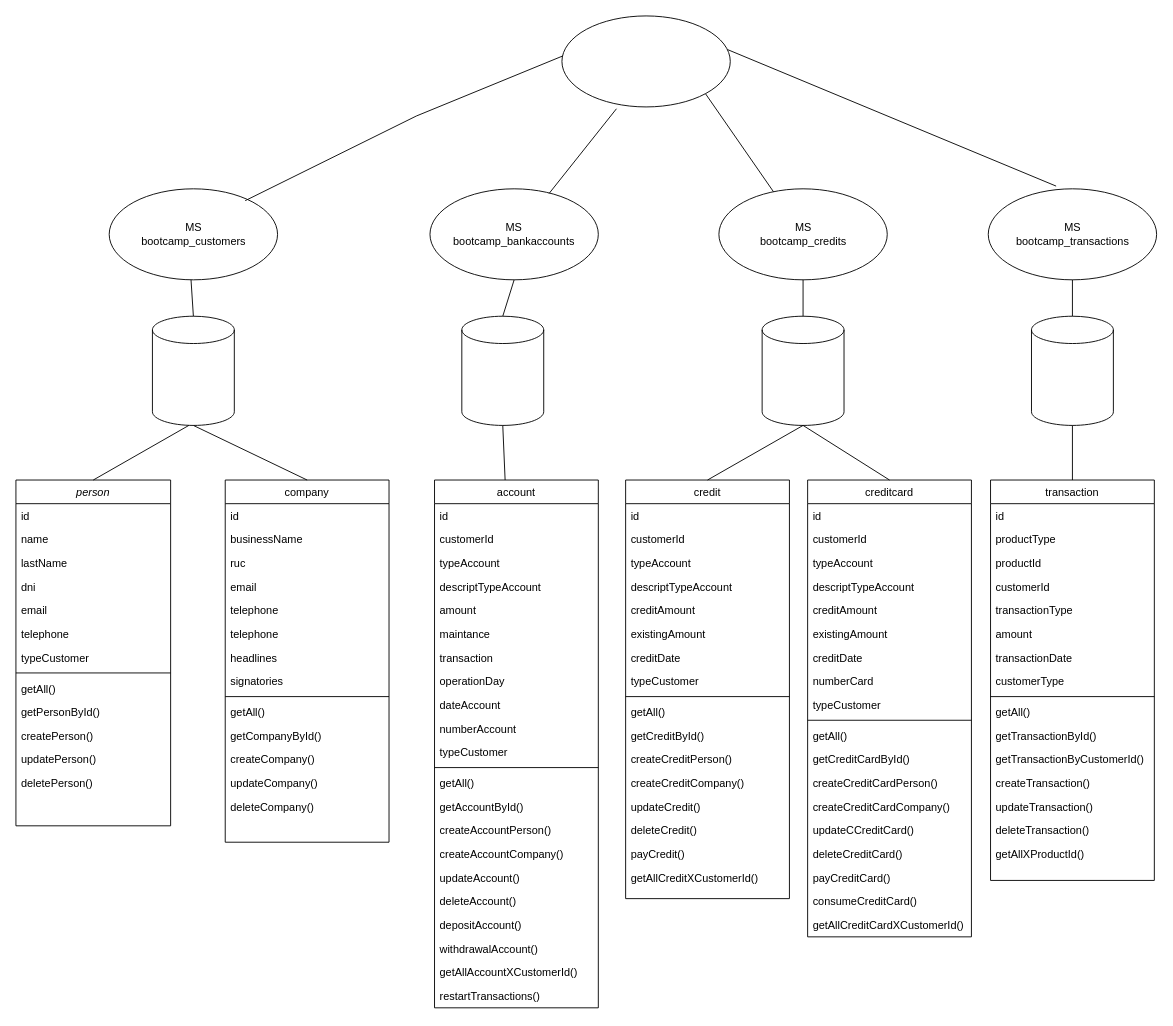
This 1173x1026 diagram has some shape labels left out. The centre of each missing label's shape, as x and y in pixels:
"DB accounts" belongs at [502,370].
"DB credits" belongs at [802,370].
"DB customers" belongs at [193,370].
"DB transactions" belongs at [1072,370].
"MS bootcamp_reports" belongs at [645,61].
